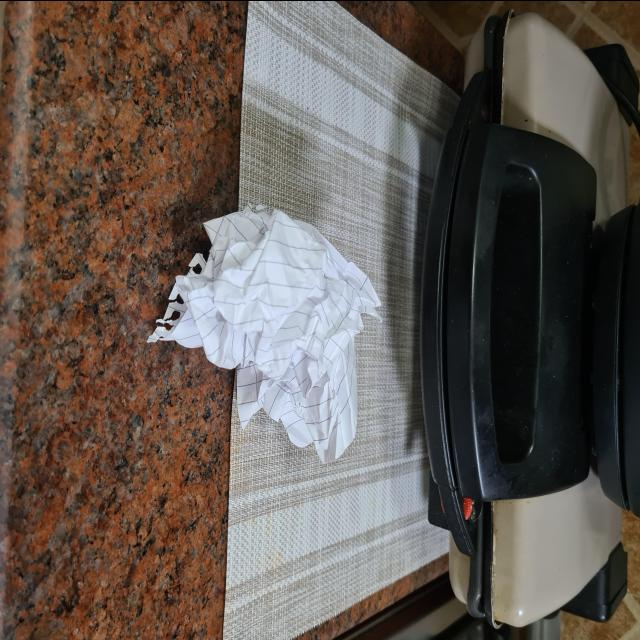kertas: (163, 202, 372, 462)
